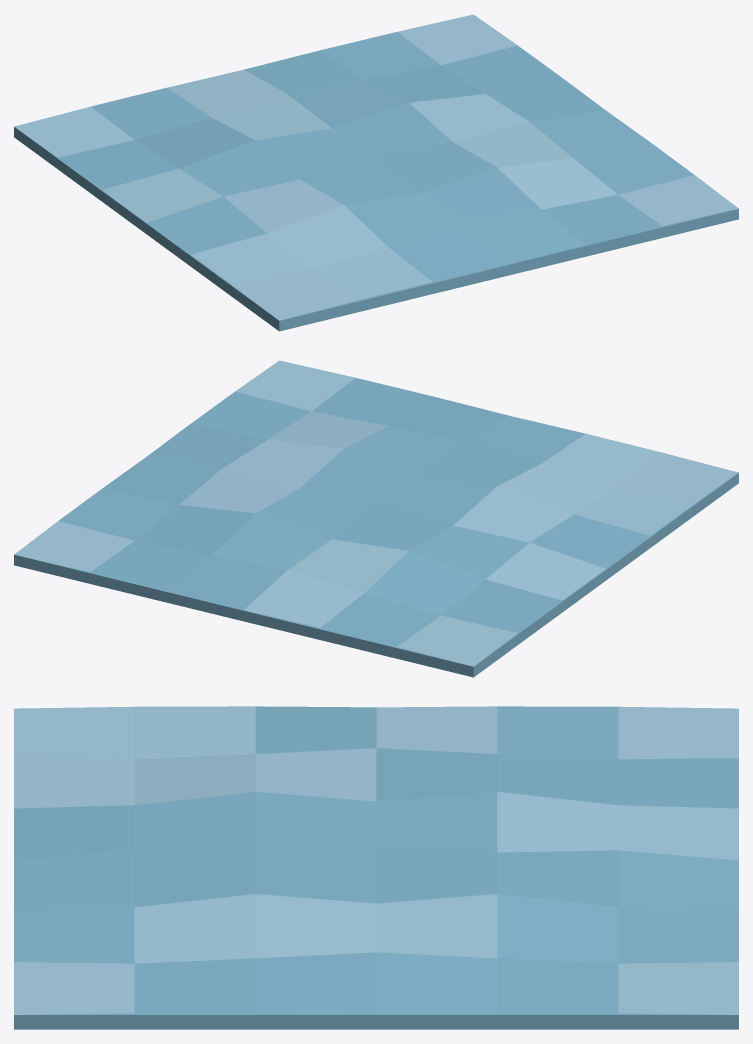
Rendered from animprop_water_04.glb.
3 views of the same model, one above another, from view 1: azimuth 30°, elevation 25°; view 2: azimuth 150°, elevation 25°; view 3: azimuth 270°, elevation 25° (orthographic). The views are drawn at different scales.
Visible parts, largest first — view 1: animprop; view 2: animprop; view 3: animprop.
Part boxes in pixels (x1,y1,x2,y2): animprop: (14, 14, 738, 331); animprop: (14, 360, 738, 677); animprop: (14, 706, 738, 1029).
Size of the model in its own units: 1.8 by 0.0917 by 1.8.
